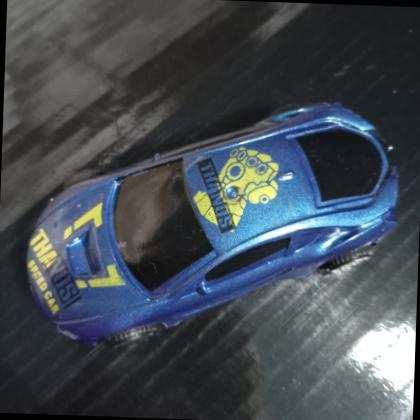Car: (15, 84, 410, 362)
